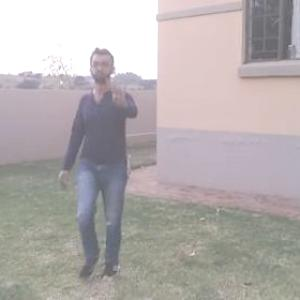takeoff-hand: (107, 78, 136, 110)
